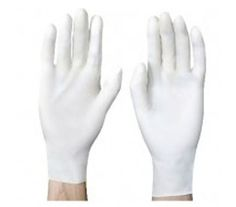gloves: (38, 7, 122, 184), (130, 12, 207, 196)
